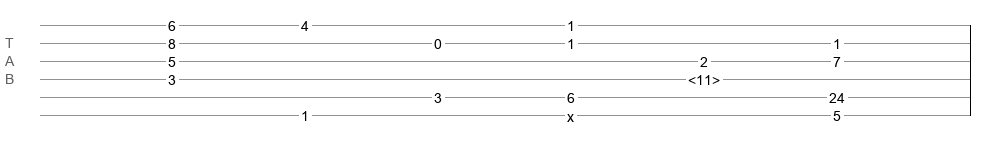0: (434, 36, 442, 46)
1: (301, 108, 309, 118), (567, 18, 575, 28), (567, 36, 575, 46), (833, 36, 841, 46)
2: (700, 54, 708, 64)
24: (829, 90, 845, 100)
3: (168, 72, 176, 82), (434, 90, 442, 100)
4: (301, 18, 309, 28)
5: (168, 54, 176, 64), (833, 108, 841, 118)
6: (168, 18, 176, 28), (567, 90, 575, 100)
7: (833, 54, 841, 64)
8: (168, 36, 176, 46)
harmonic: (688, 72, 720, 82)
x: (567, 109, 574, 117)
